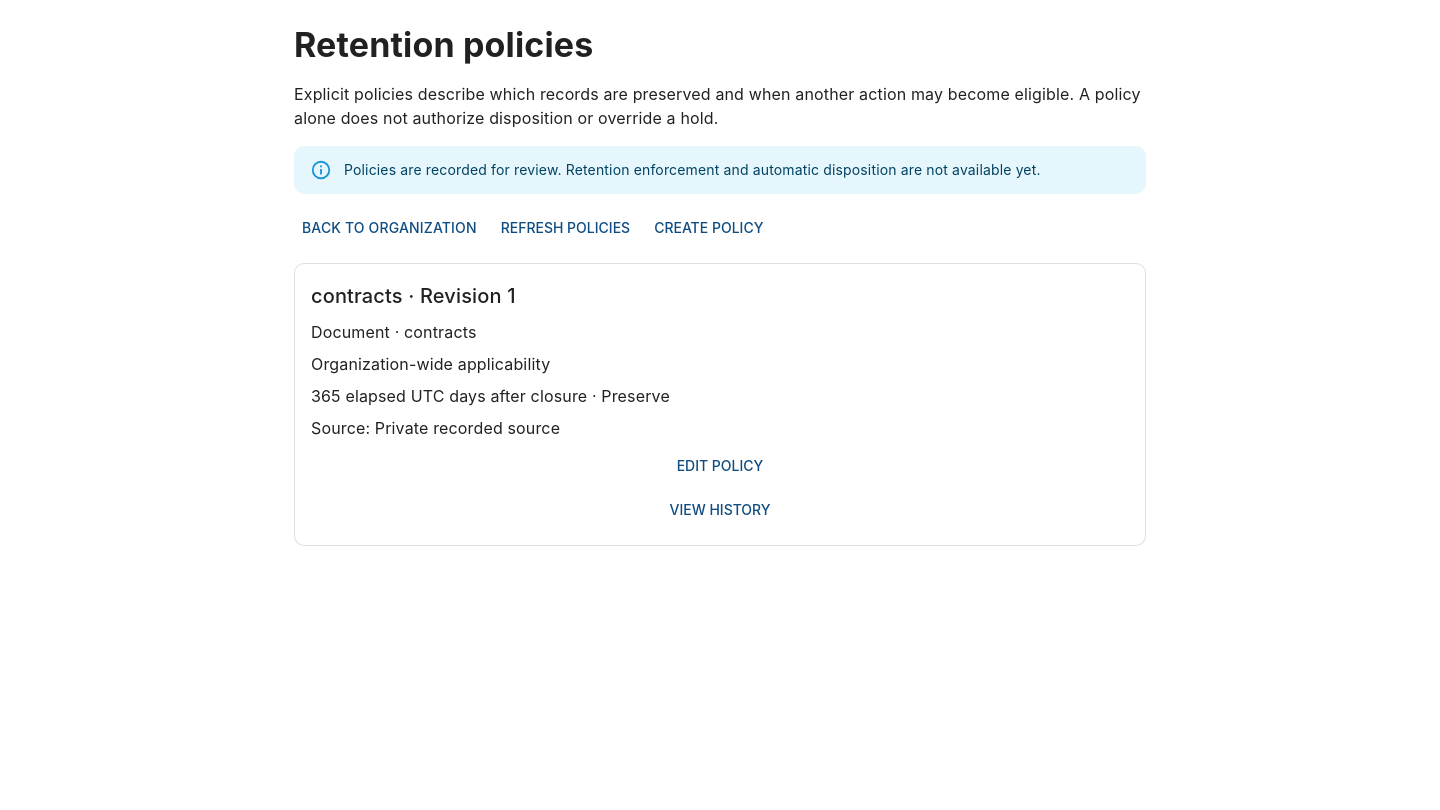
Test: PRD-70 MUI private policy browsing › refreshes current state after an original acknowledgment and moves focus to the page heading
Click the button with aria-label "Edit policy for Document contracts, Organization-wide" at (720, 466), box [311, 448, 1129, 484]
(page scrolled)
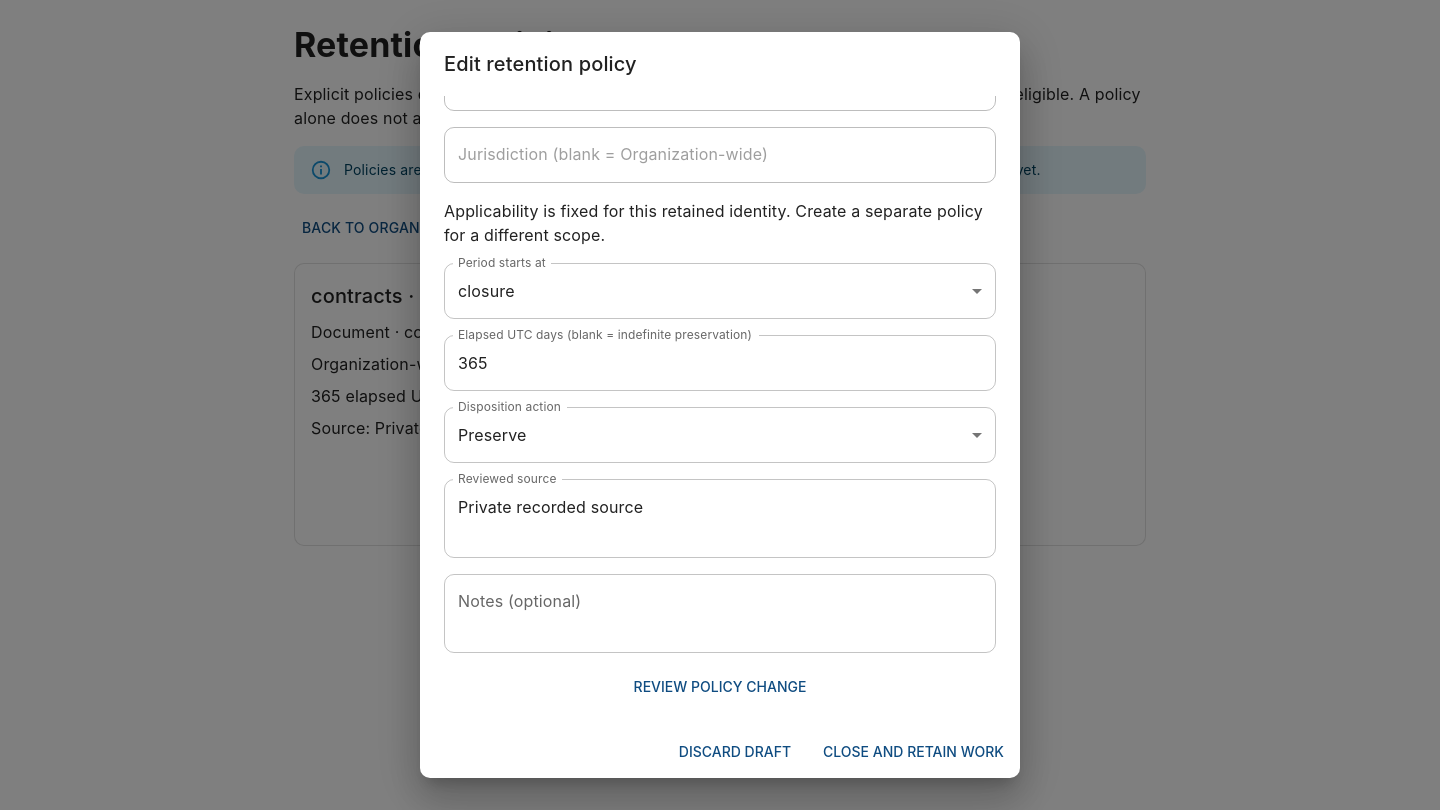
Replace the text in the text box labelled "Reviewed source" with "My original reviewed change" at (720, 518), box [458, 496, 982, 542]
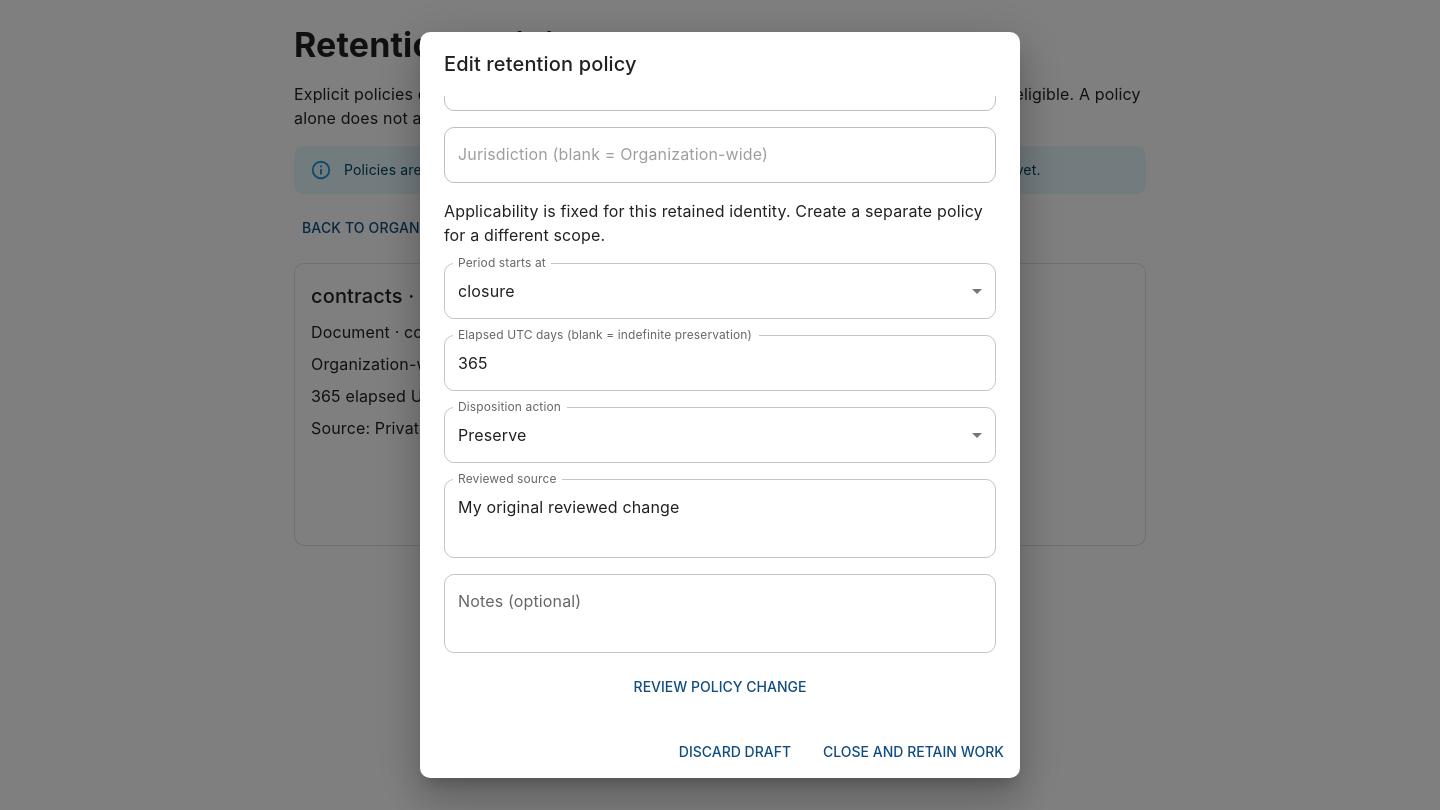
Click the button "Review policy change" at (720, 687), box [444, 669, 996, 706]
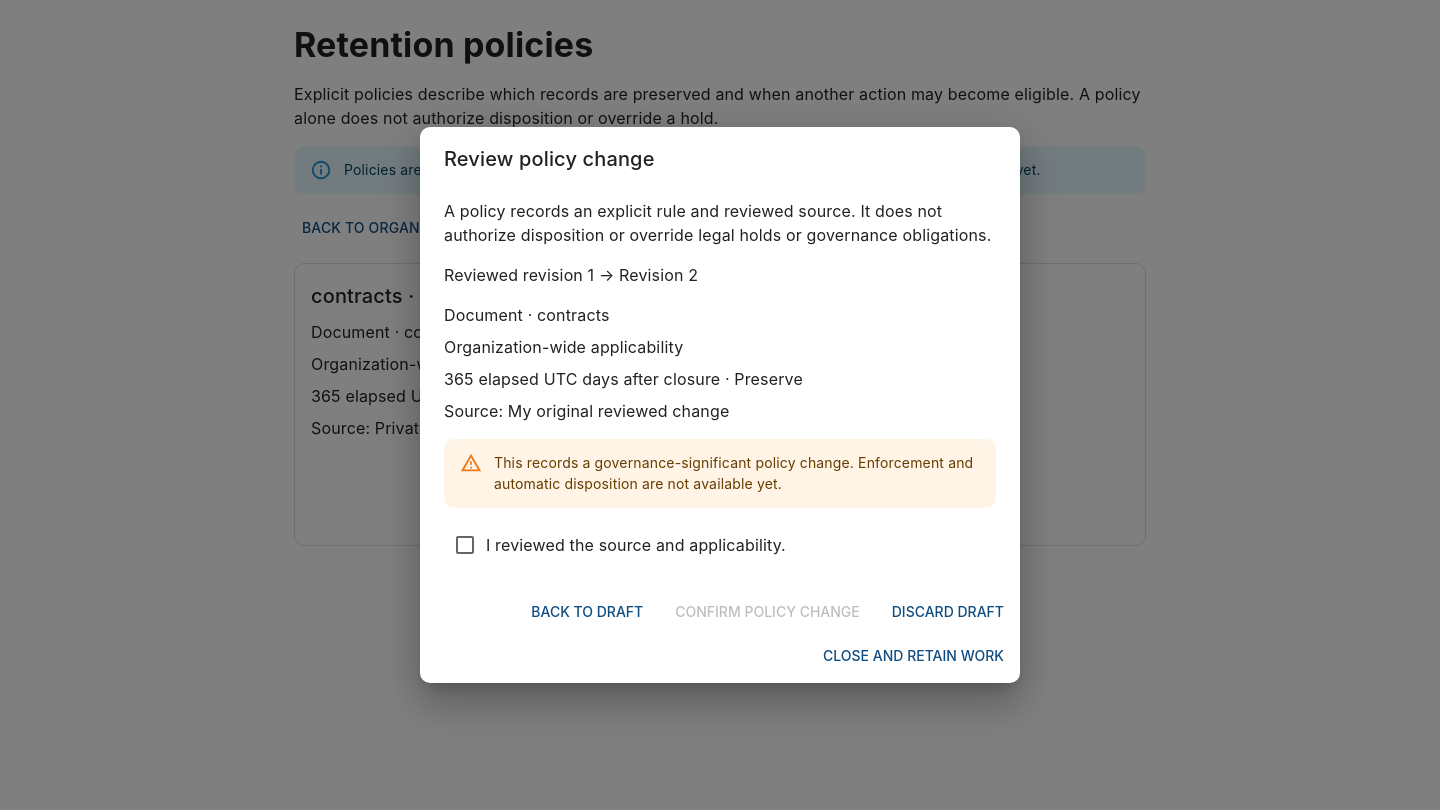
Click the checkbox at (619, 544), box [453, 532, 786, 556]
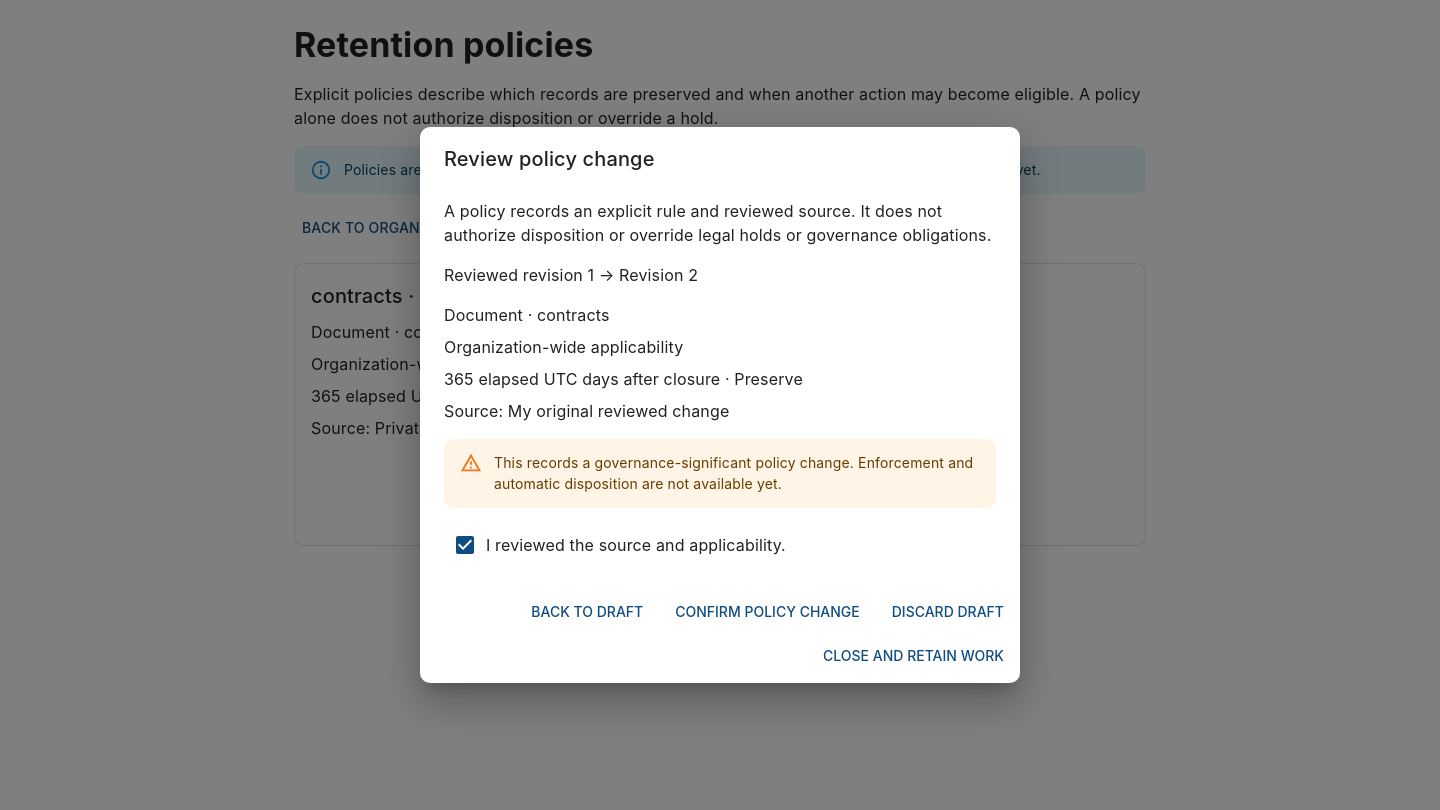
Click the button "Confirm policy change" at (767, 612), box [667, 594, 868, 630]
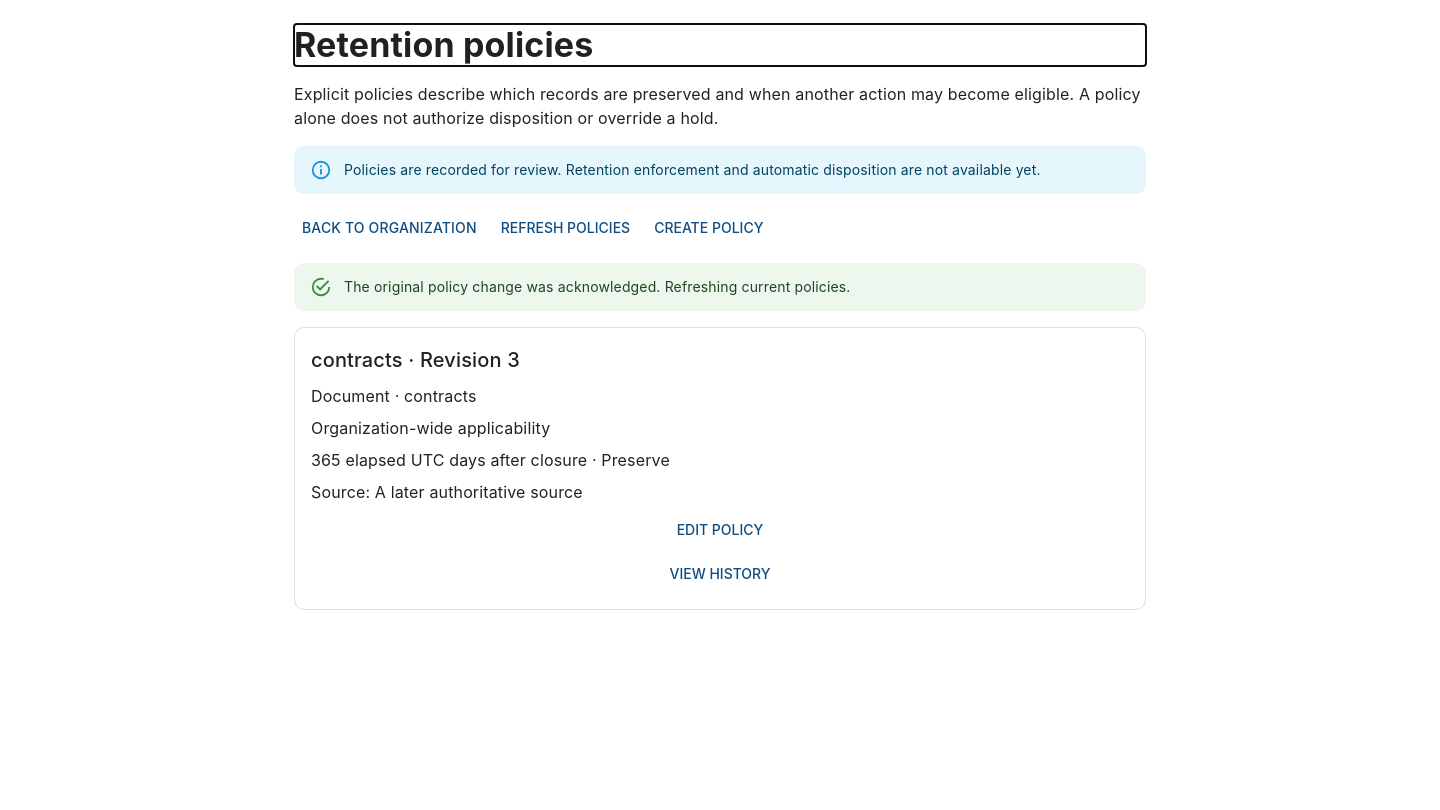
Check: the text "Source: A later authoritative source" is shown, box [311, 482, 583, 502]
Check: the text "Source: My original reviewed change" is gone
Check: the heading "contracts · Revision 3" is shown, box [311, 348, 520, 372]
